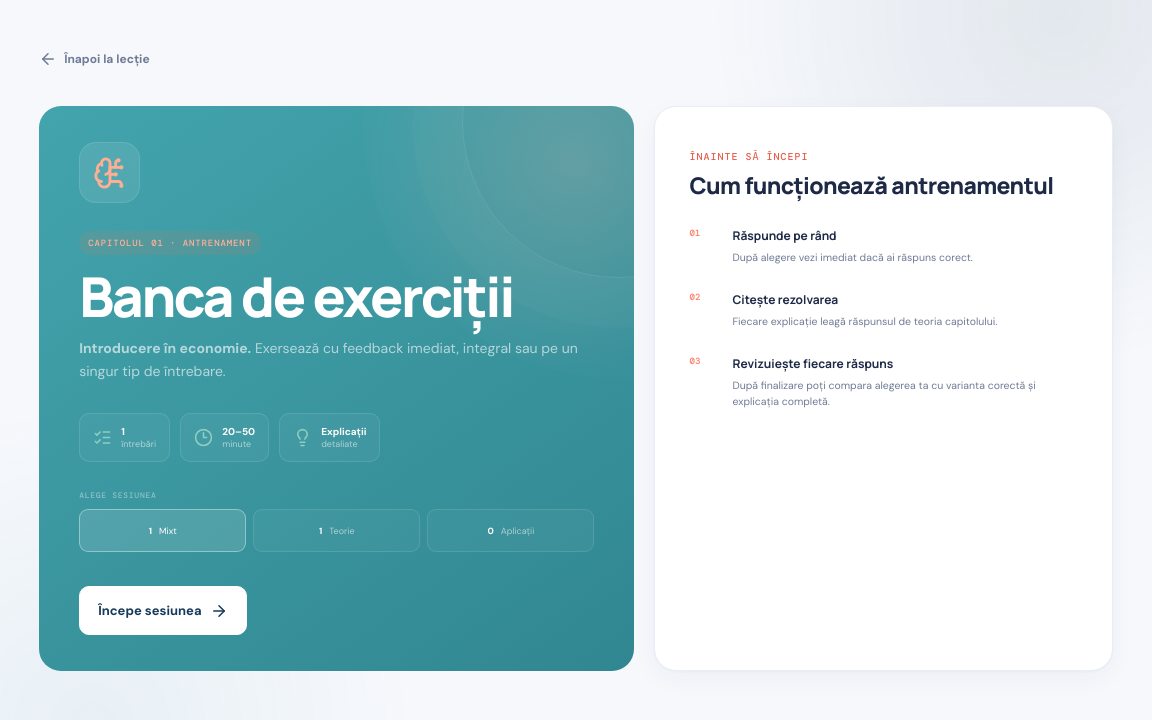
Test: assessment experience › shows immediate explanations in practice mode
Click the button "Începe sesiunea". click: (163, 611)
box: [79,586,247,635]
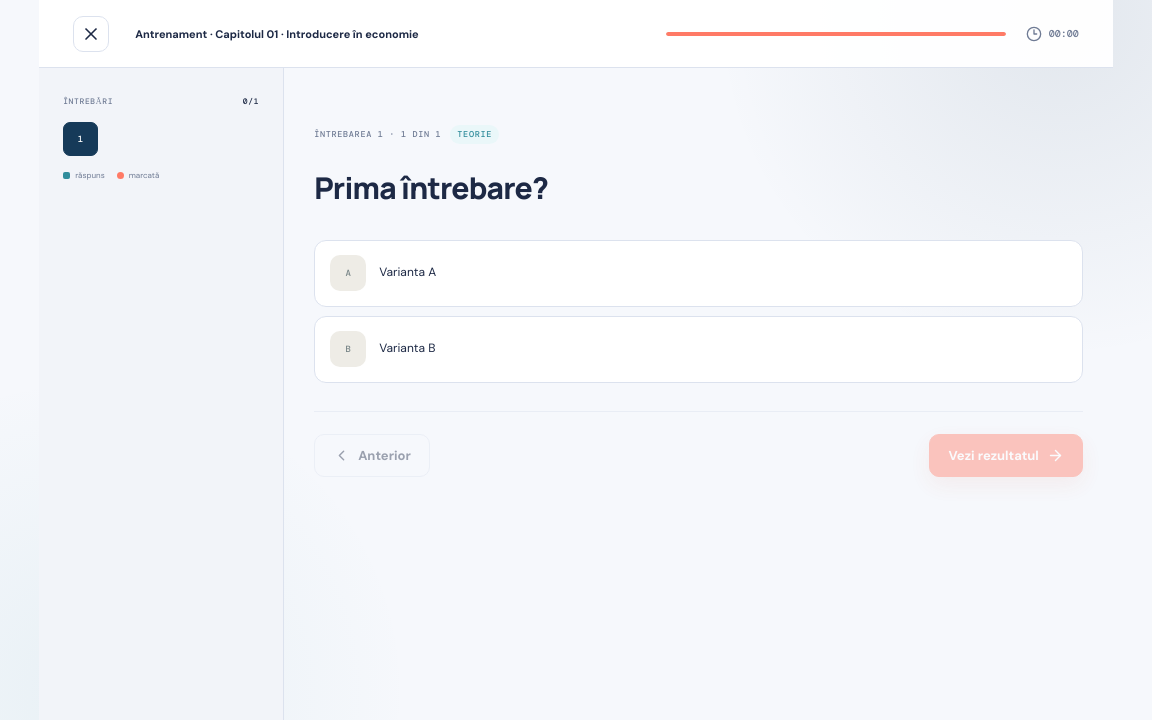
Click the button "A Varianta A". click: (348, 273)
box: [314,240,1083,306]
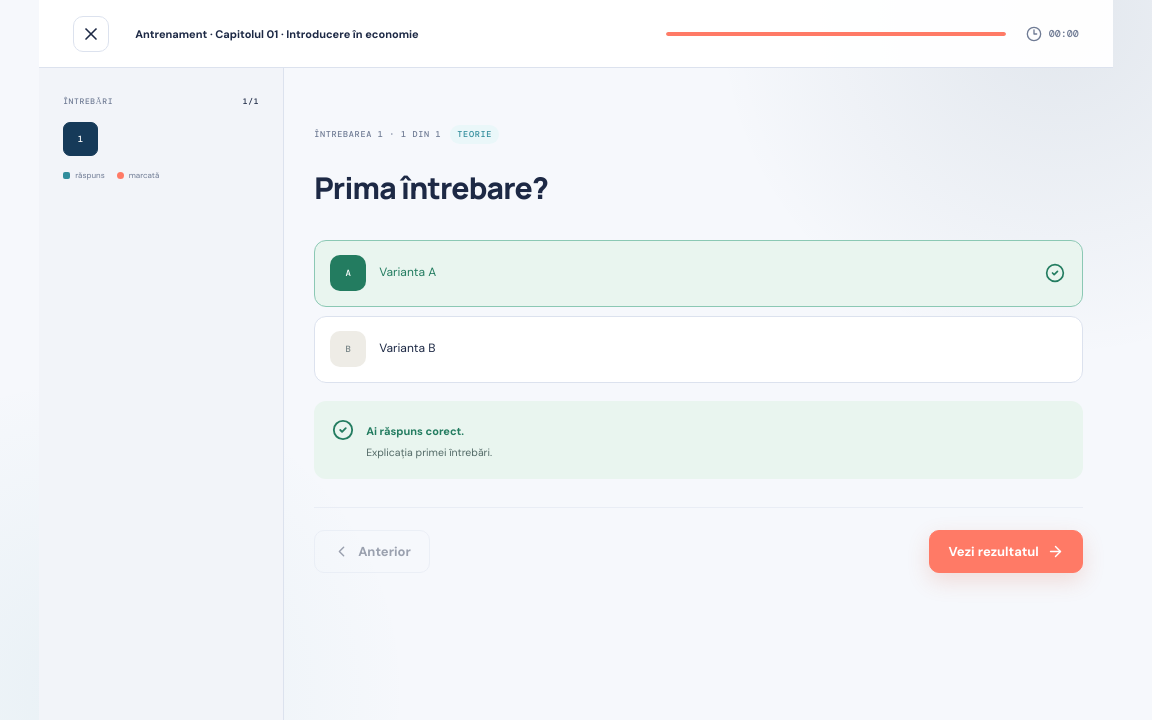
Result: the text "Ai răspuns corect." is shown at [366,424,464,438]
Result: the text "Explicația primei întrebări." is shown at [366,444,492,461]
